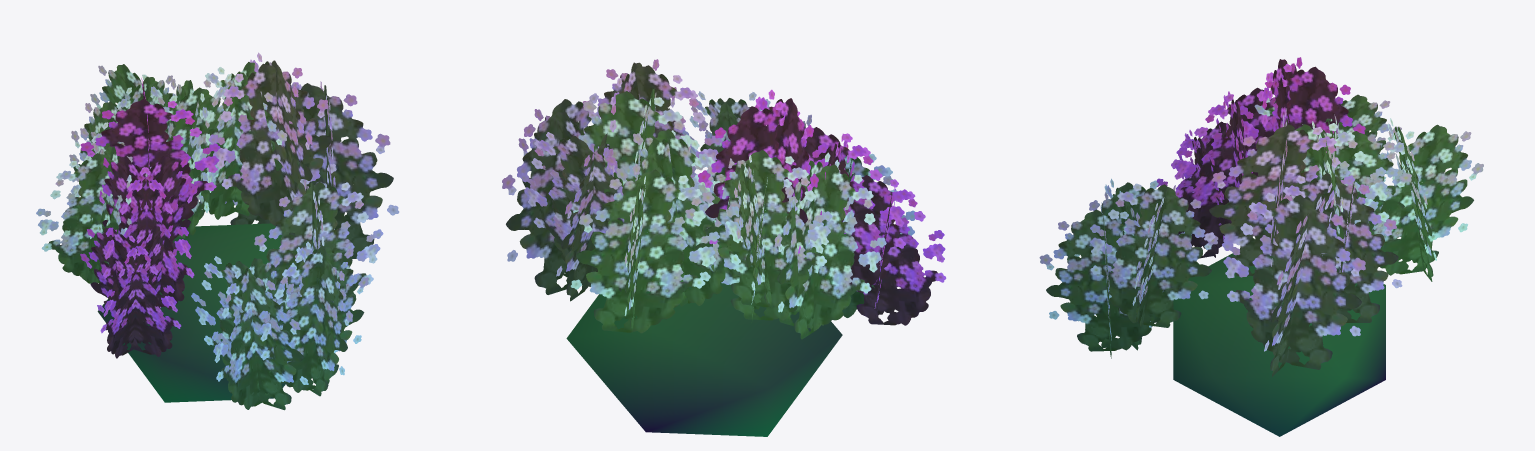
Rendered from nat_bush_flowering_a_LOD2.glb.
The picture shows the model from 3 angles, left to right: view 1: azimuth 30°, elevation 25°; view 2: azimuth 150°, elevation 25°; view 3: azimuth 270°, elevation 25°; orthographic projection. The views are drawn at different scales.
Parts seen in each view (by area): view 1: geometry_0; view 2: geometry_0; view 3: geometry_0.
Boxes of the visible parts, box(x1,y1,x2,y2) form: geometry_0: box(36, 52, 399, 410); geometry_0: box(502, 59, 946, 436); geometry_0: box(1039, 57, 1483, 436).
Size of the model in its own units: 1.62 by 1.22 by 1.76.
Materials: 1 (1 with a texture image).
